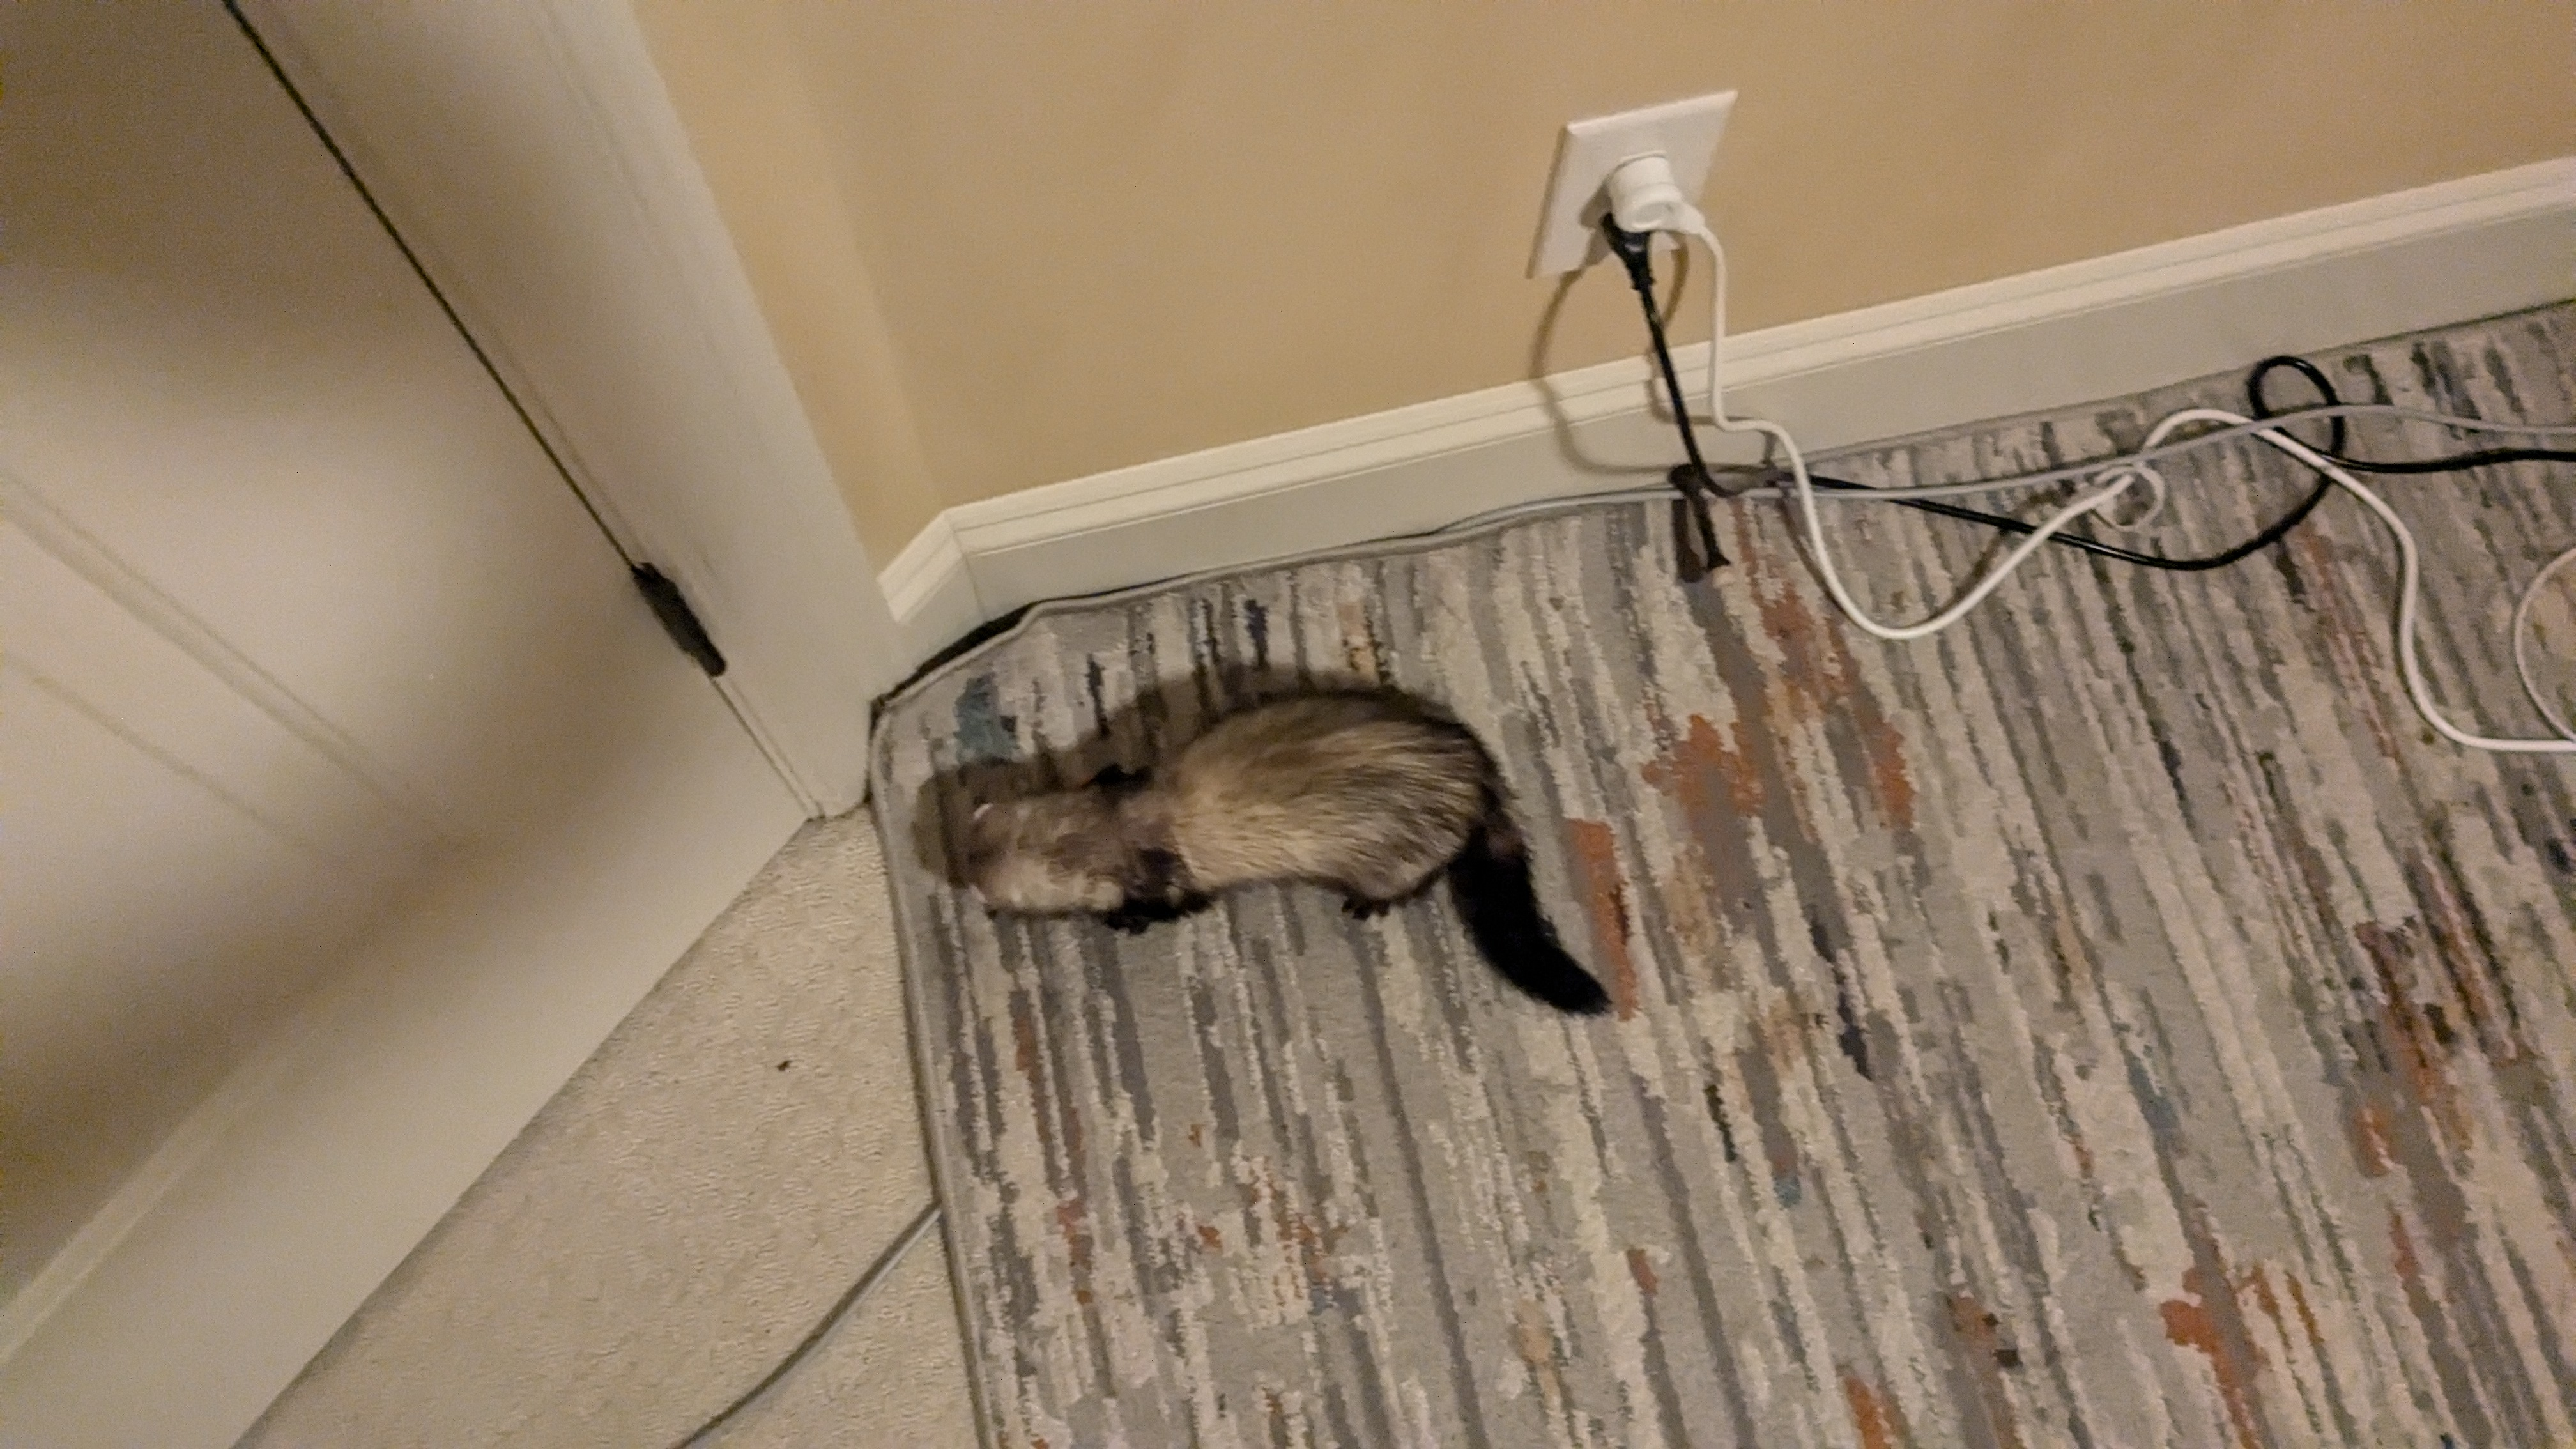Talulah: (966, 688, 1631, 1017)
